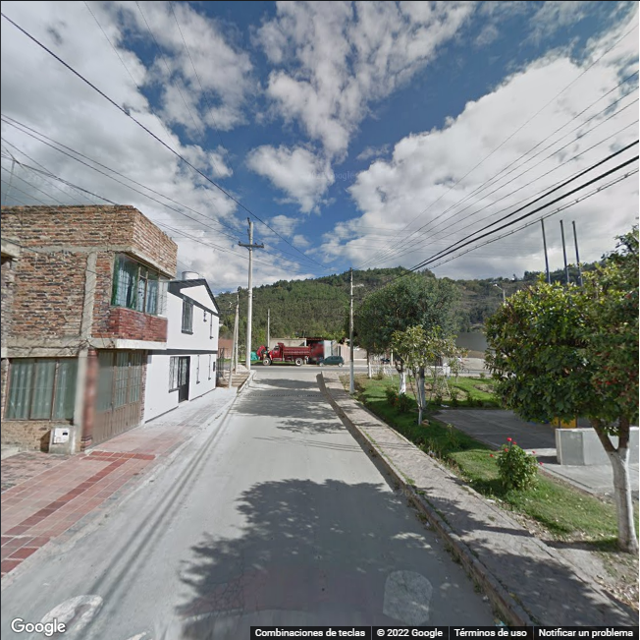D20: (164, 578, 255, 635), (384, 568, 443, 620)
